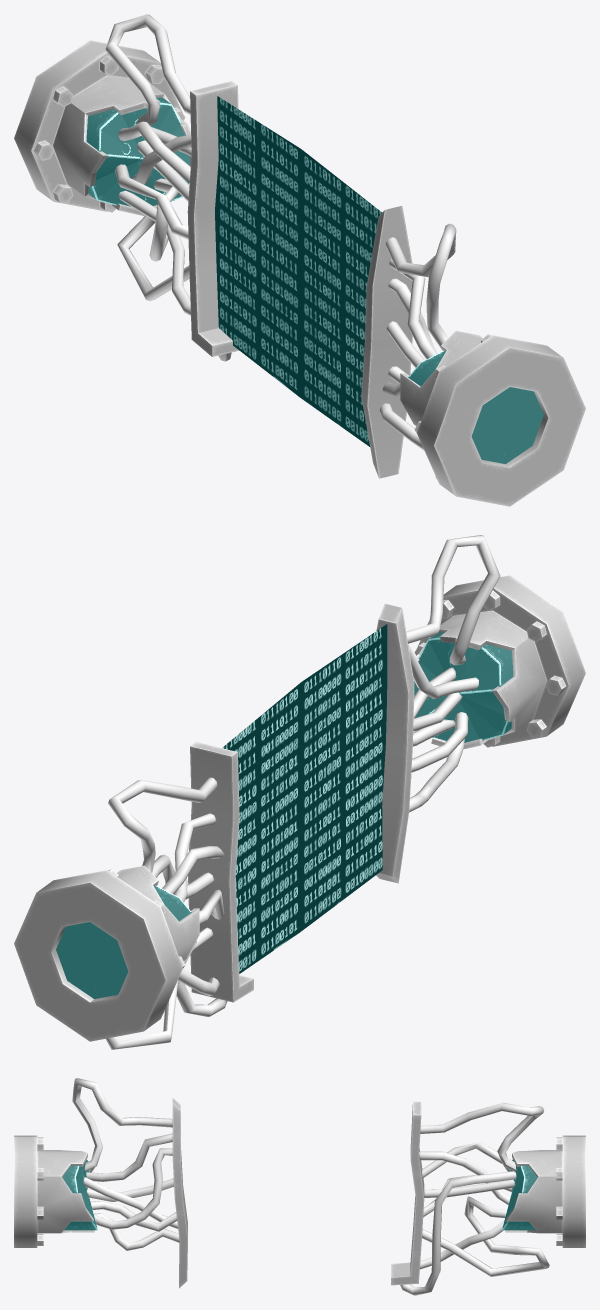
Rendered from Pipe_Screen_Emissive.glb.
3 renders of one model, top to bottom at view 1: azimuth 30°, elevation 25°; view 2: azimuth 150°, elevation 25°; view 3: azimuth 270°, elevation 25°, orthographic. The views are drawn at different scales.
Parts seen in each view (by area): view 1: pipe_screen.001; view 2: pipe_screen.001; view 3: pipe_screen.001.
Boxes of the visible parts, <box> form: pipe_screen.001: <box>14,14,585,506</box>; pipe_screen.001: <box>14,535,585,1049</box>; pipe_screen.001: <box>14,1078,585,1295</box>.
Size of what is drawn, in the model's own units: 0.7154 by 1.38 by 3.42.
Materials: 1 (1 with a texture image).
